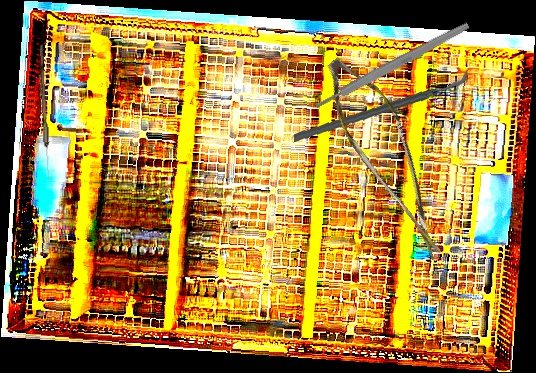Chopper: (293, 53, 469, 159)
Micro Scissor: (295, 49, 485, 261)
Scalpel Handle: (313, 20, 471, 111)
Surgical Spoon: (36, 44, 53, 182)
